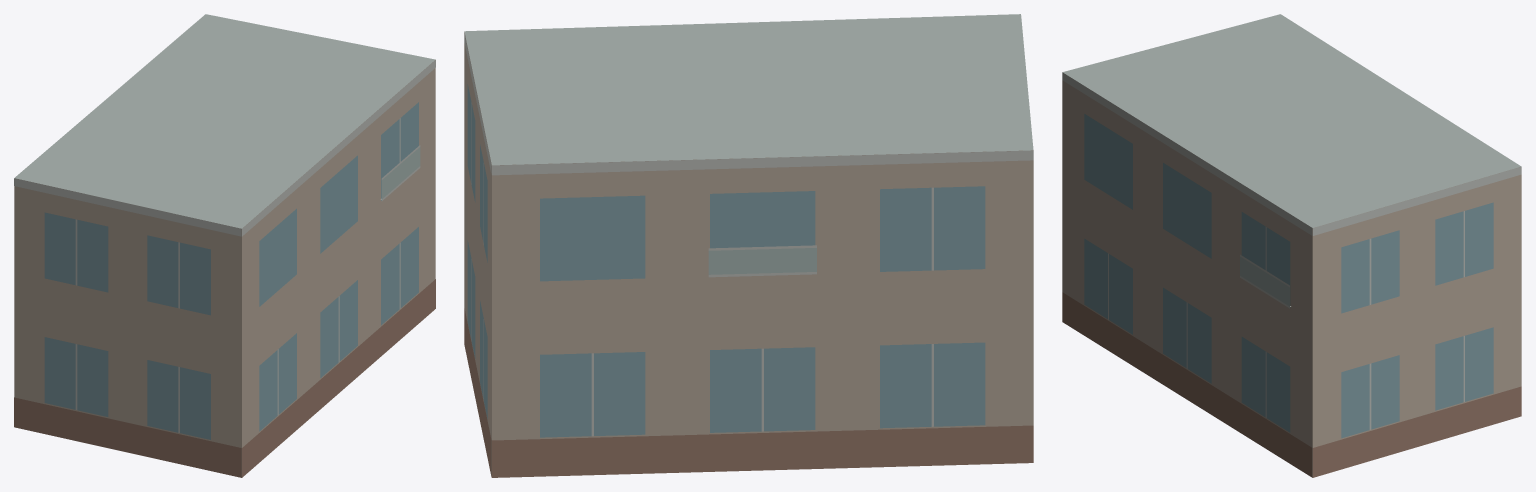
File: survey-upis-32625509.glb
3 views of the same model, side by side, from view 1: azimuth 30°, elevation 25°; view 2: azimuth 150°, elevation 25°; view 3: azimuth 270°, elevation 25° (orthographic). The views are drawn at different scales.
Parts seen in each view (by area): view 1: survey-upis-32625509.tmp; view 2: survey-upis-32625509.tmp; view 3: survey-upis-32625509.tmp.
Boxes of the visible parts, x1,y1,x2,y2 form: survey-upis-32625509.tmp: (14,14,435,477); survey-upis-32625509.tmp: (464,14,1033,477); survey-upis-32625509.tmp: (1062,14,1521,477).
Size of the model in its own units: 13.98 by 7.6 by 12.68.
